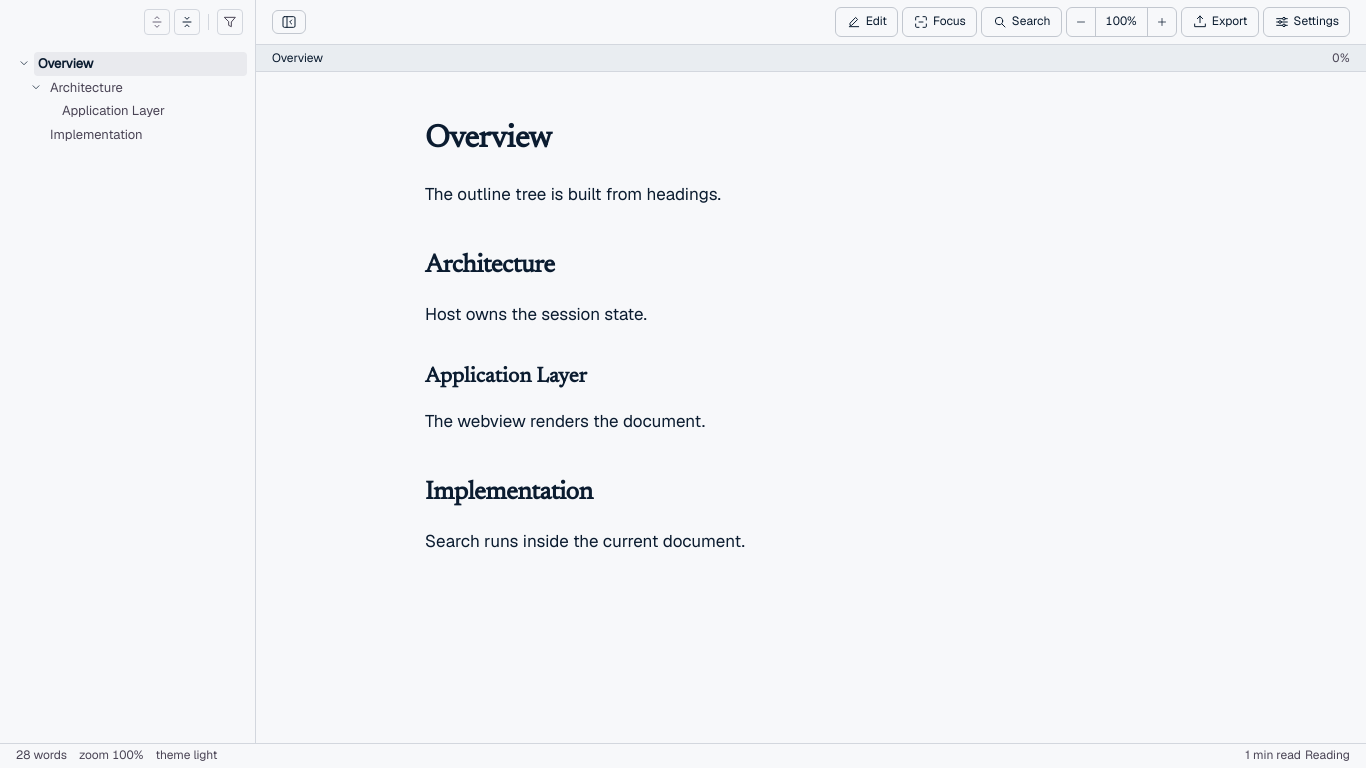
Test case: 顶栏 / 弹层 / 状态条装配（M6） › 大纲过滤是这一篇的临时视图态：换文档即清空，不留副本（§10.3）
This screenshot has width=1366, height=768.
Click the button named "Filter" at (230,22), box [217, 9, 243, 35]
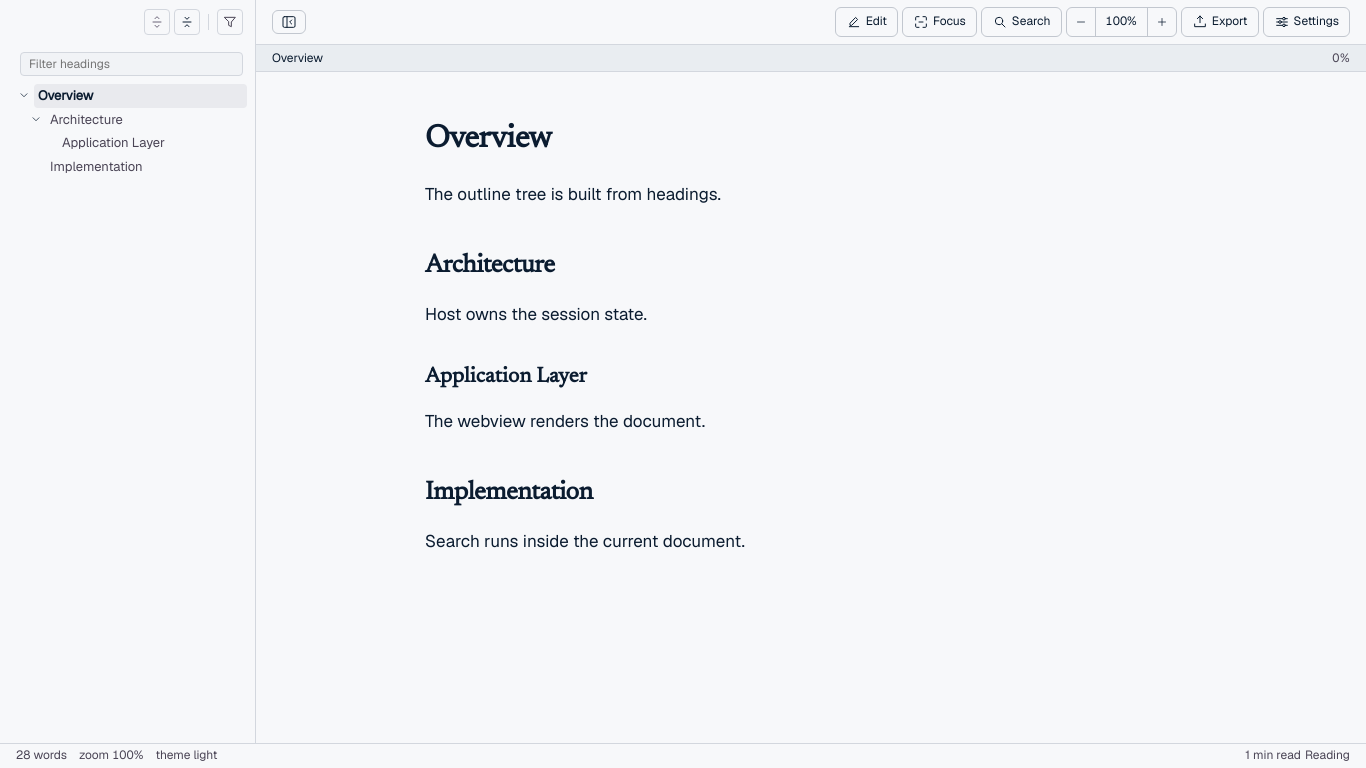
Type "arch" into the field with placeholder "Filter headings" at (132,64), box [20, 52, 243, 76]
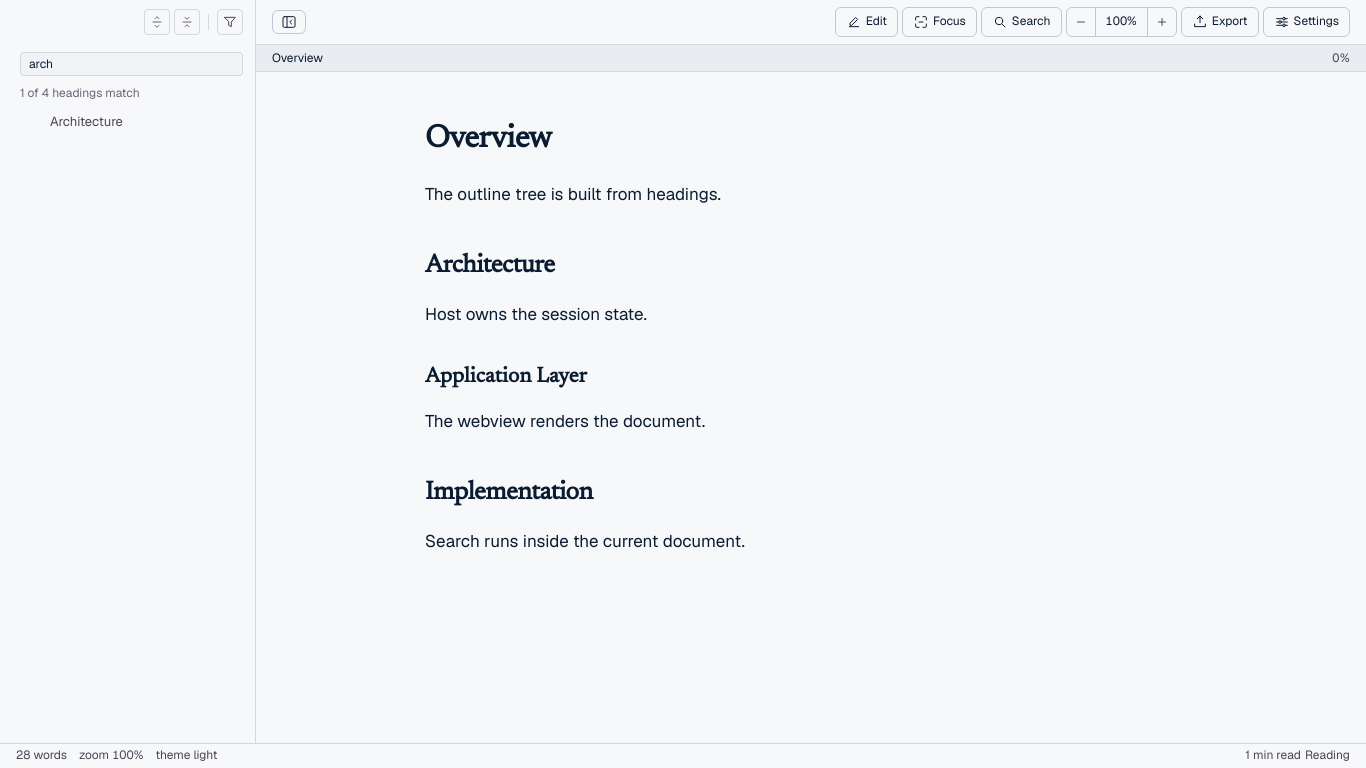
Expected: the number of links with class "readora-outline-link" is 1, [50, 113, 123, 130]
